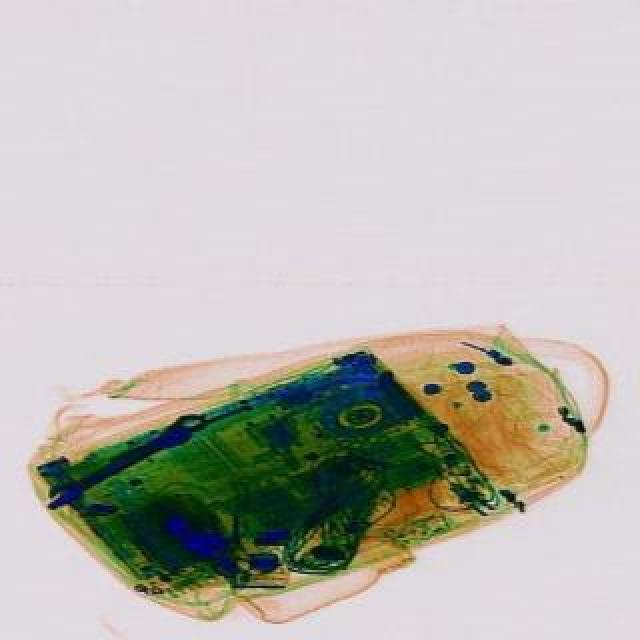pliers: (210, 530, 250, 574)
scissors: (38, 402, 212, 514)
